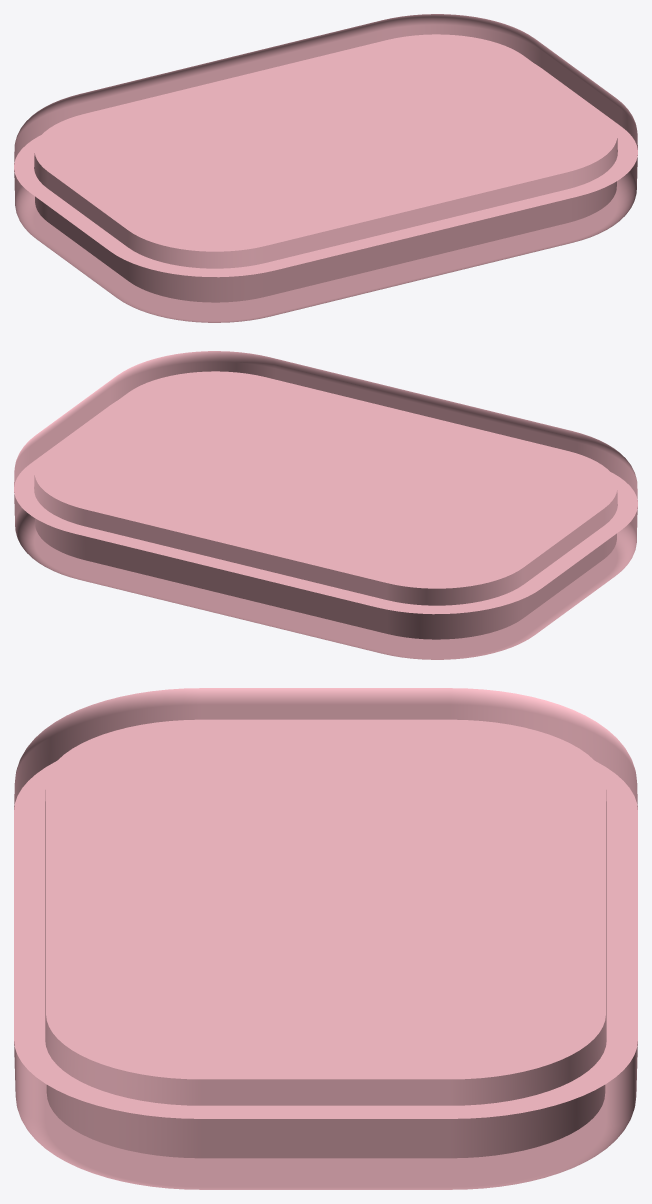
The model's file is v4_enclosure.glb.
The picture shows the model from 3 angles, top to bottom: view 1: azimuth 30°, elevation 25°; view 2: azimuth 150°, elevation 25°; view 3: azimuth 270°, elevation 25°; orthographic projection. The views are drawn at different scales.
Visible parts, largest first — view 1: top_shell, bottom_shell; view 2: top_shell, bottom_shell; view 3: top_shell, bottom_shell.
Part boxes in pixels (left/top/right/bottom): top_shell: left=14, top=14, right=637, bottom=277; bottom_shell: left=14, top=155, right=637, bottom=322; top_shell: left=14, top=351, right=637, bottom=614; bottom_shell: left=14, top=492, right=637, bottom=659; top_shell: left=14, top=688, right=637, bottom=1118; bottom_shell: left=14, top=1041, right=637, bottom=1189.
Bounding box in the file's own units: 0.044 × 0.008 × 0.03.
